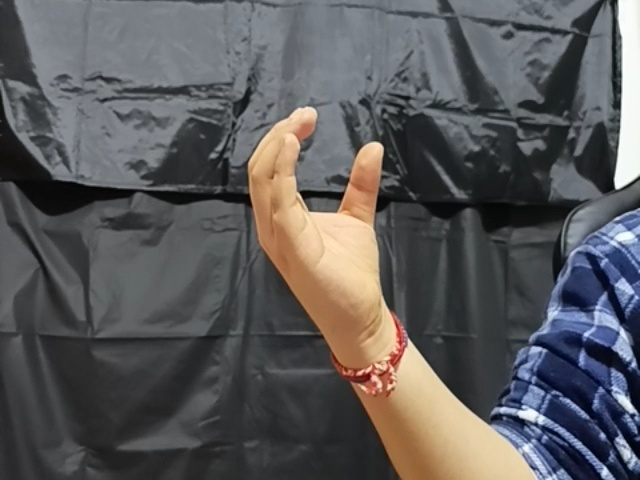C: (242, 103, 388, 317)
